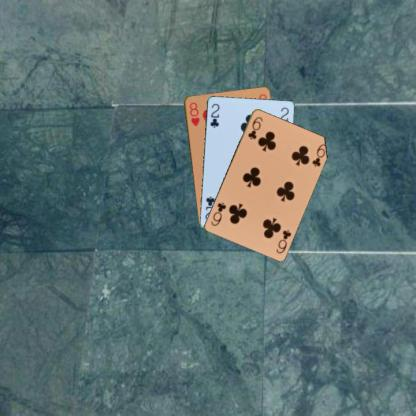2c: (208, 100, 220, 129)
6c: (274, 226, 292, 255), (245, 114, 263, 140)
8h: (186, 99, 200, 127)
